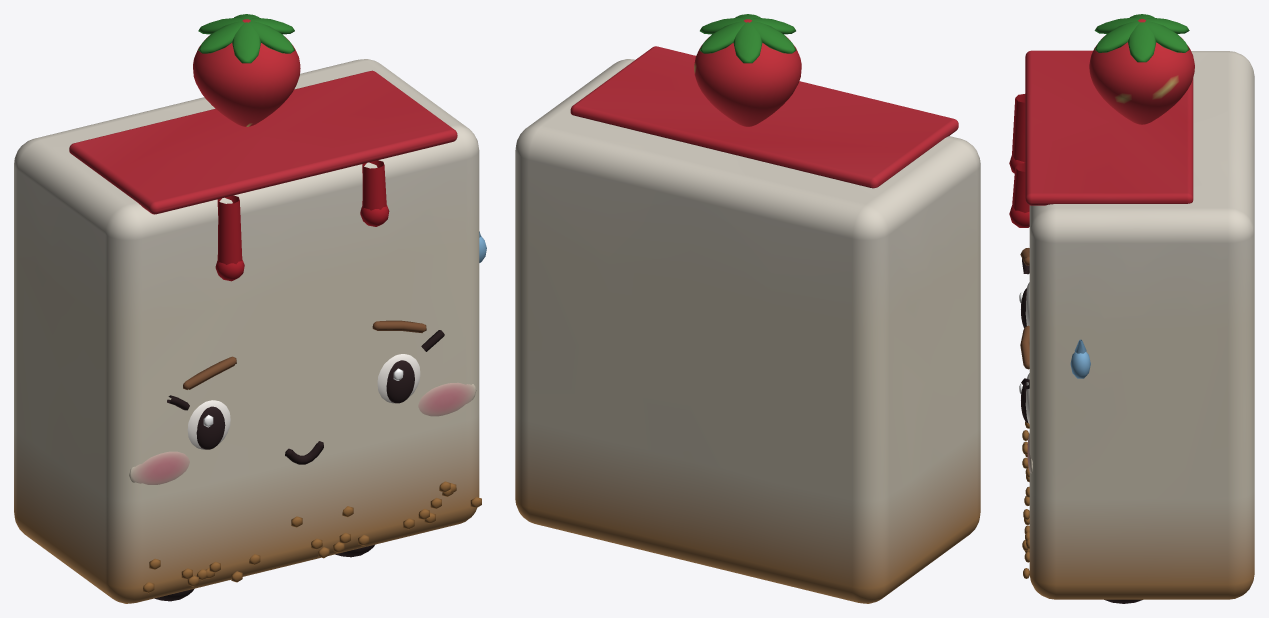
File: folk_cece.glb
3 views of the same model, side by side, from view 1: azimuth 30°, elevation 25°; view 2: azimuth 150°, elevation 25°; view 3: azimuth 270°, elevation 25° (orthographic).
Parts seen in each view (by area): view 1: cece_body, cece_eye_l, cece_eye_r; view 2: cece_body; view 3: cece_body, cece_eye_l, cece_eye_r.
Part boxes in pixels (bbox=[...]): cece_body: bbox=[14, 14, 486, 603]; cece_eye_l: bbox=[187, 400, 230, 449]; cece_eye_r: bbox=[377, 354, 420, 403]; cece_body: bbox=[515, 14, 980, 603]; cece_body: bbox=[1009, 14, 1254, 599]; cece_eye_l: bbox=[1019, 282, 1029, 328]; cece_eye_r: bbox=[1019, 373, 1029, 423].
Bounding box in the file's own units: 0.8992 × 1.2 × 0.4964.
